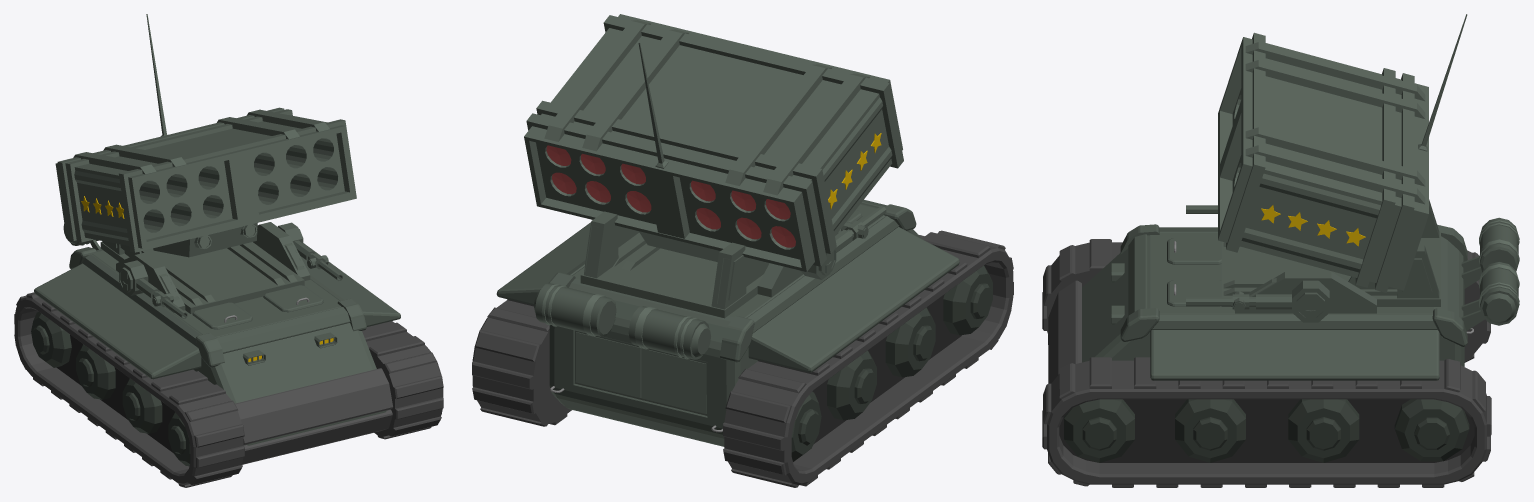
File: Tos_Flame_Thrower.fbx
3 renders of one model, left to right at view 1: azimuth 30°, elevation 25°; view 2: azimuth 150°, elevation 25°; view 3: azimuth 270°, elevation 25°, orthographic. The views are drawn at different scales.
Parts seen in each view (by area): view 1: Tant_Lower_Part, Missile_Part, weapo; view 2: Tant_Lower_Part, Missile_Part, weapo; view 3: Tant_Lower_Part, Missile_Part, weapo.
Boxes of the visible parts, x1=… form: Tant_Lower_Part: x1=14, y1=224, x2=443, y2=487; Missile_Part: x1=55, y1=14, x2=356, y2=257; weapo: x1=100, y1=222, x2=342, y2=318; Tant_Lower_Part: x1=472, y1=200, x2=1013, y2=487; Missile_Part: x1=524, y1=14, x2=903, y2=271; weapo: x1=580, y1=206, x2=886, y2=318; Tant_Lower_Part: x1=1042, y1=217, x2=1519, y2=487; Missile_Part: x1=1218, y1=14, x2=1467, y2=292; weapo: x1=1186, y1=199, x2=1440, y2=322.
Size of the model in its own units: 6.9 by 8.68 by 9.35.
